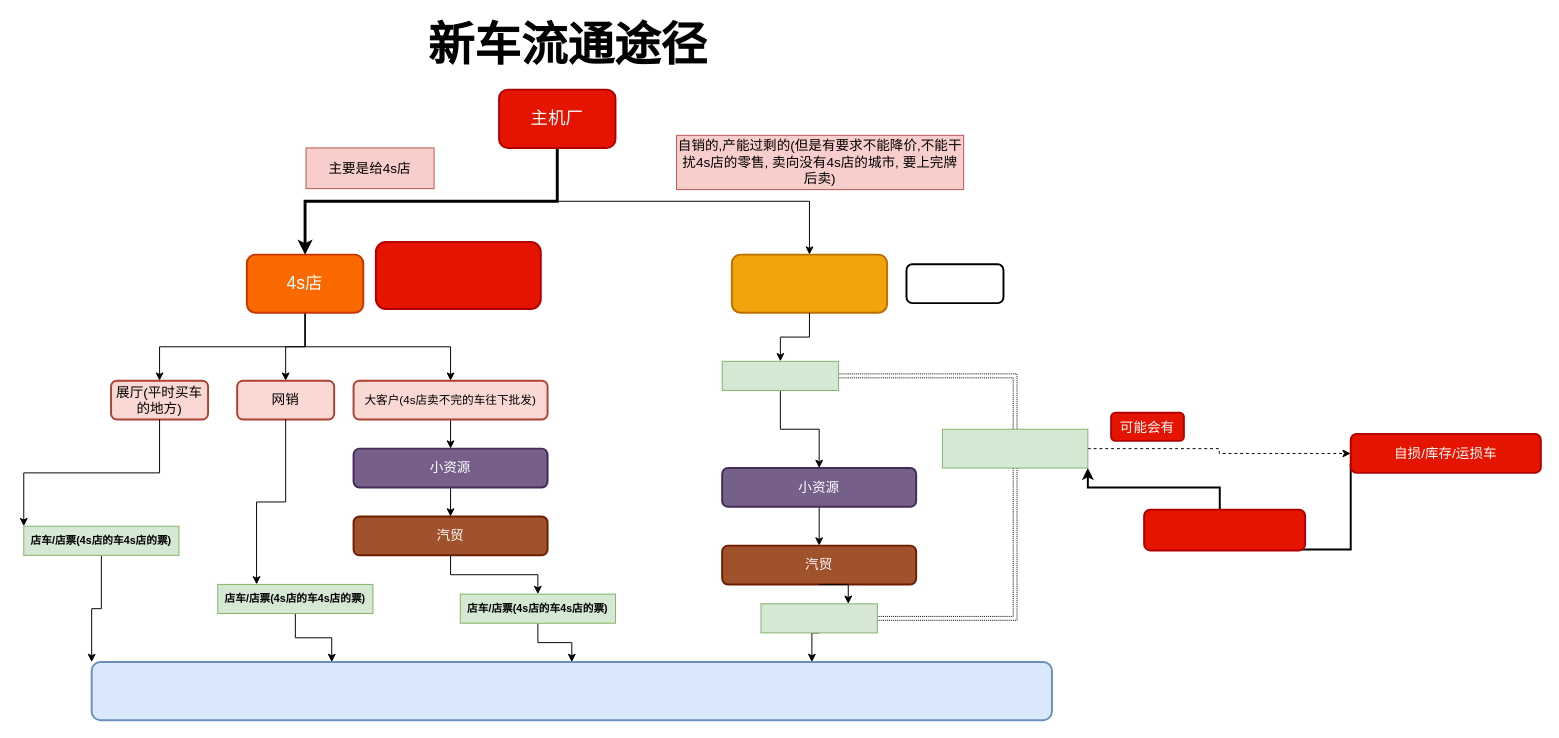
Some shapes in this 1559 by 738 pixel diagram are drawn without their labels. The shapes that lost their labels are listed below. From the top down, each one's centre as x and y in pixels, then its label:
At point (457, 275): "4s店不会卖问题车, 因为会退1赔3".
At point (809, 283): "大资源(大汽贸)".
At point (954, 283): "包牌报税车".
At point (780, 375): "增票".
At point (1014, 448): "增票和消费票都叫汽贸票".
At point (1224, 529): "有问题的车肯定是汽贸票".
At point (818, 618): "消费票/普通发票".
At point (571, 691): "消费者".
